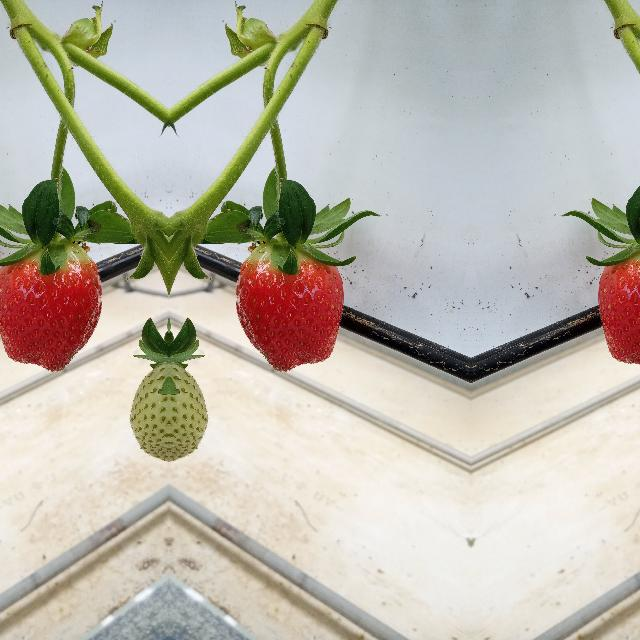Health_100: (233, 242, 344, 372), (0, 242, 102, 372), (596, 242, 640, 372)
